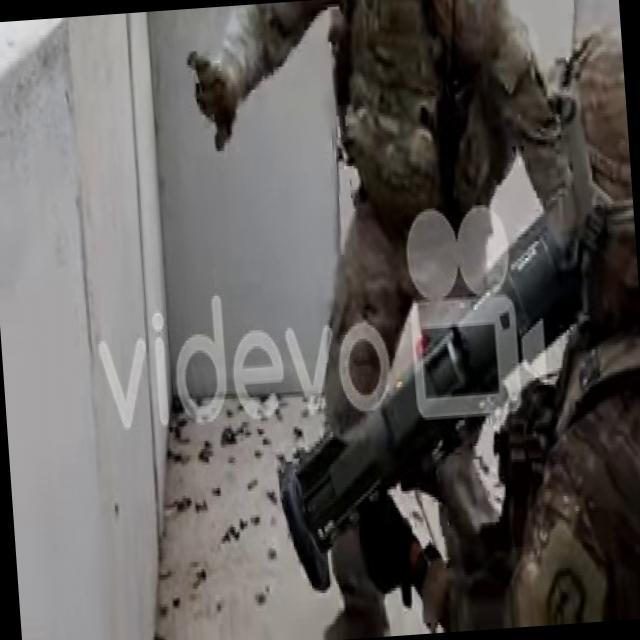rocket: (266, 205, 584, 598)
